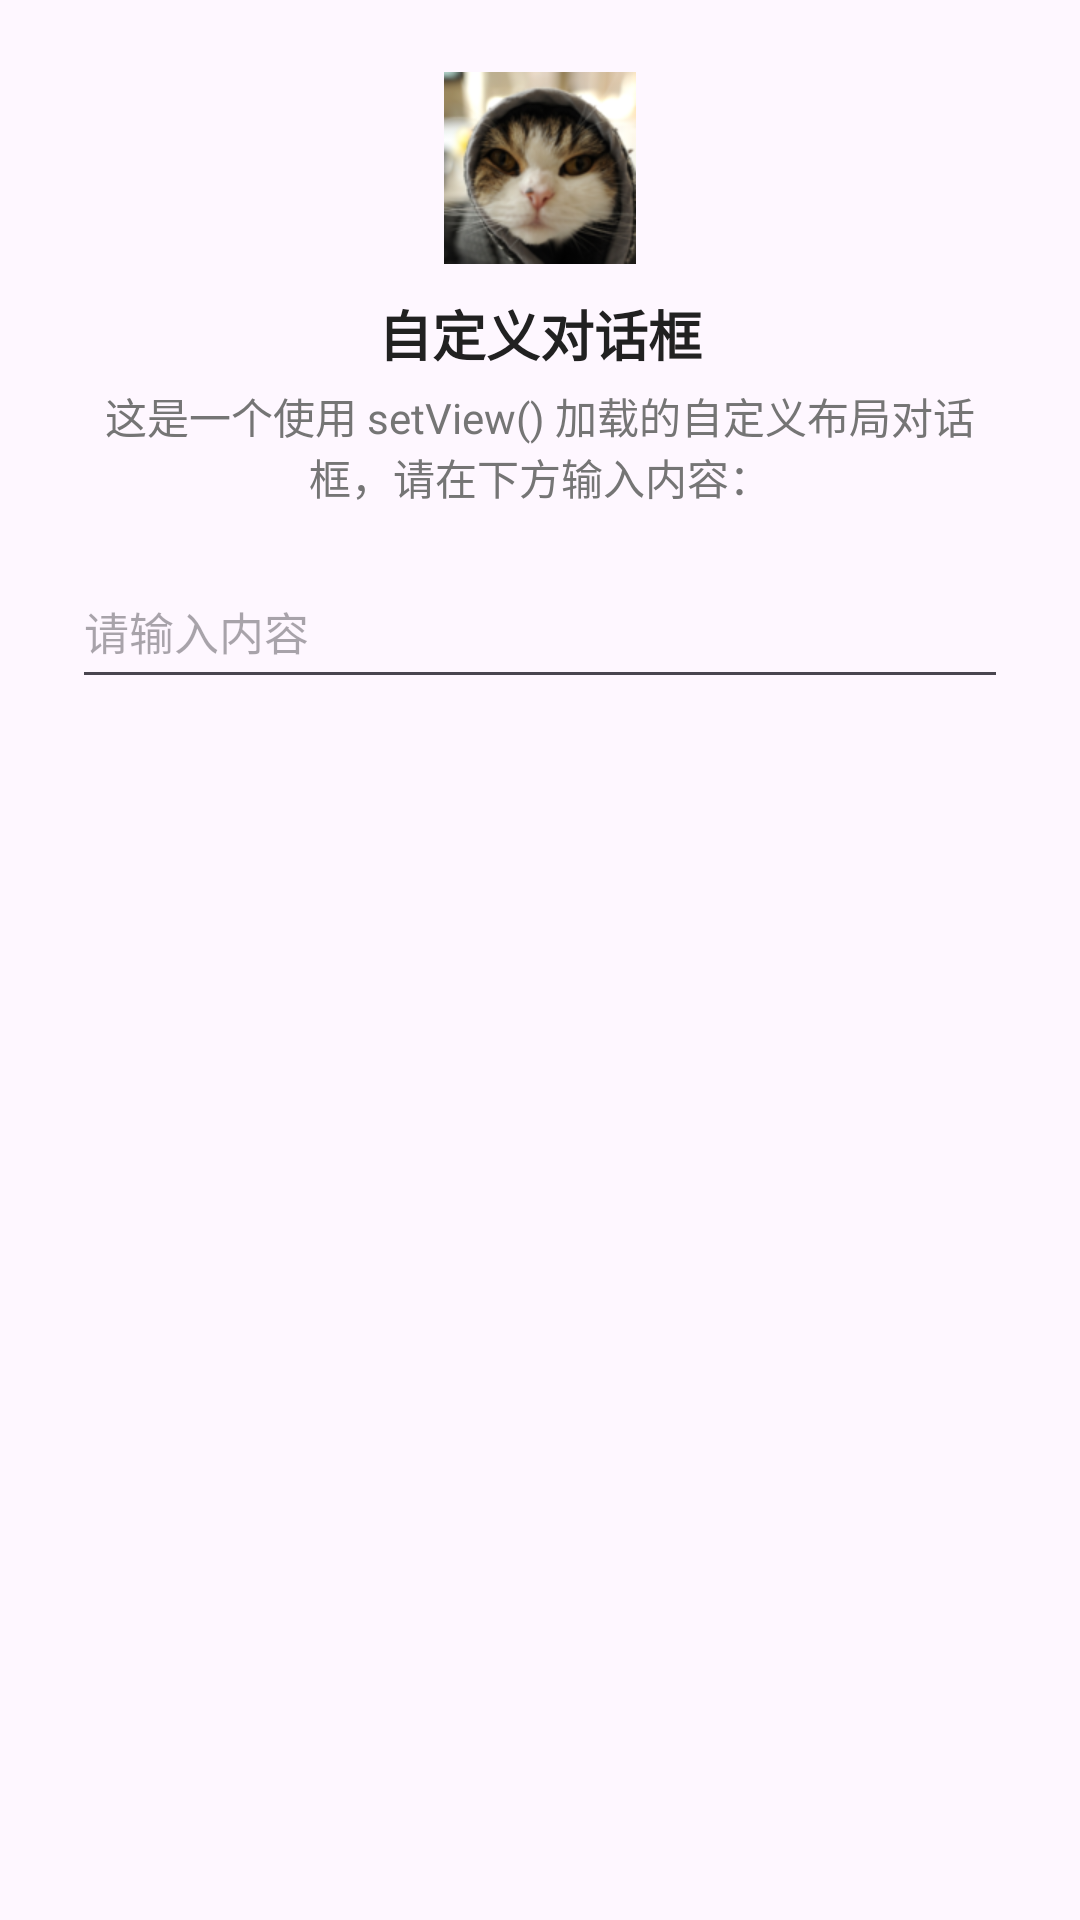

Screen size 1080 x 1920. Icon name, then its box in pixels as {"left": x1, "top": y1, "right": x2, "bottom": y2}:
cat: {"left": 444, "top": 72, "right": 636, "bottom": 264}
